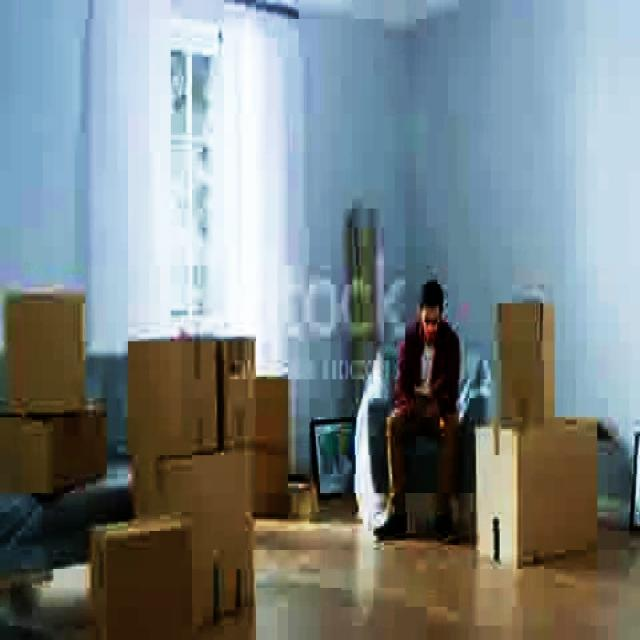Box: (475, 422, 600, 552), (174, 450, 258, 604), (127, 334, 216, 465), (91, 531, 193, 630), (7, 292, 86, 412), (488, 298, 560, 414), (1, 415, 104, 495), (218, 332, 258, 431)
